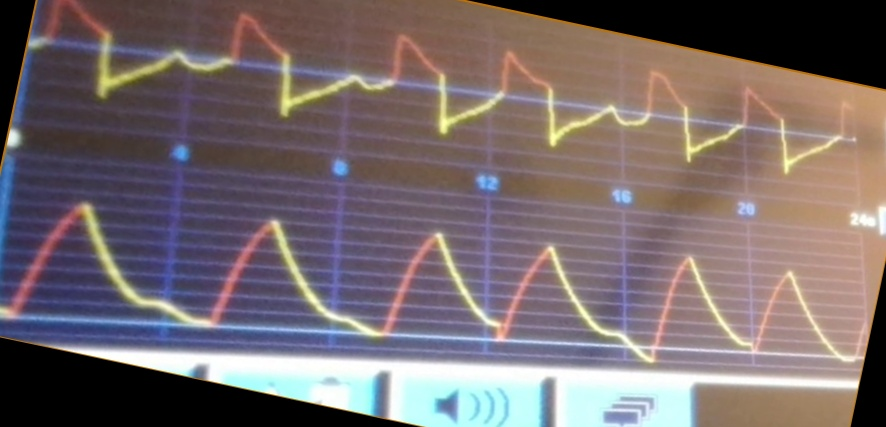Ineffective_effort Flow: (33, 5, 854, 171)
Ineffective_effort Volume: (4, 194, 865, 365)
